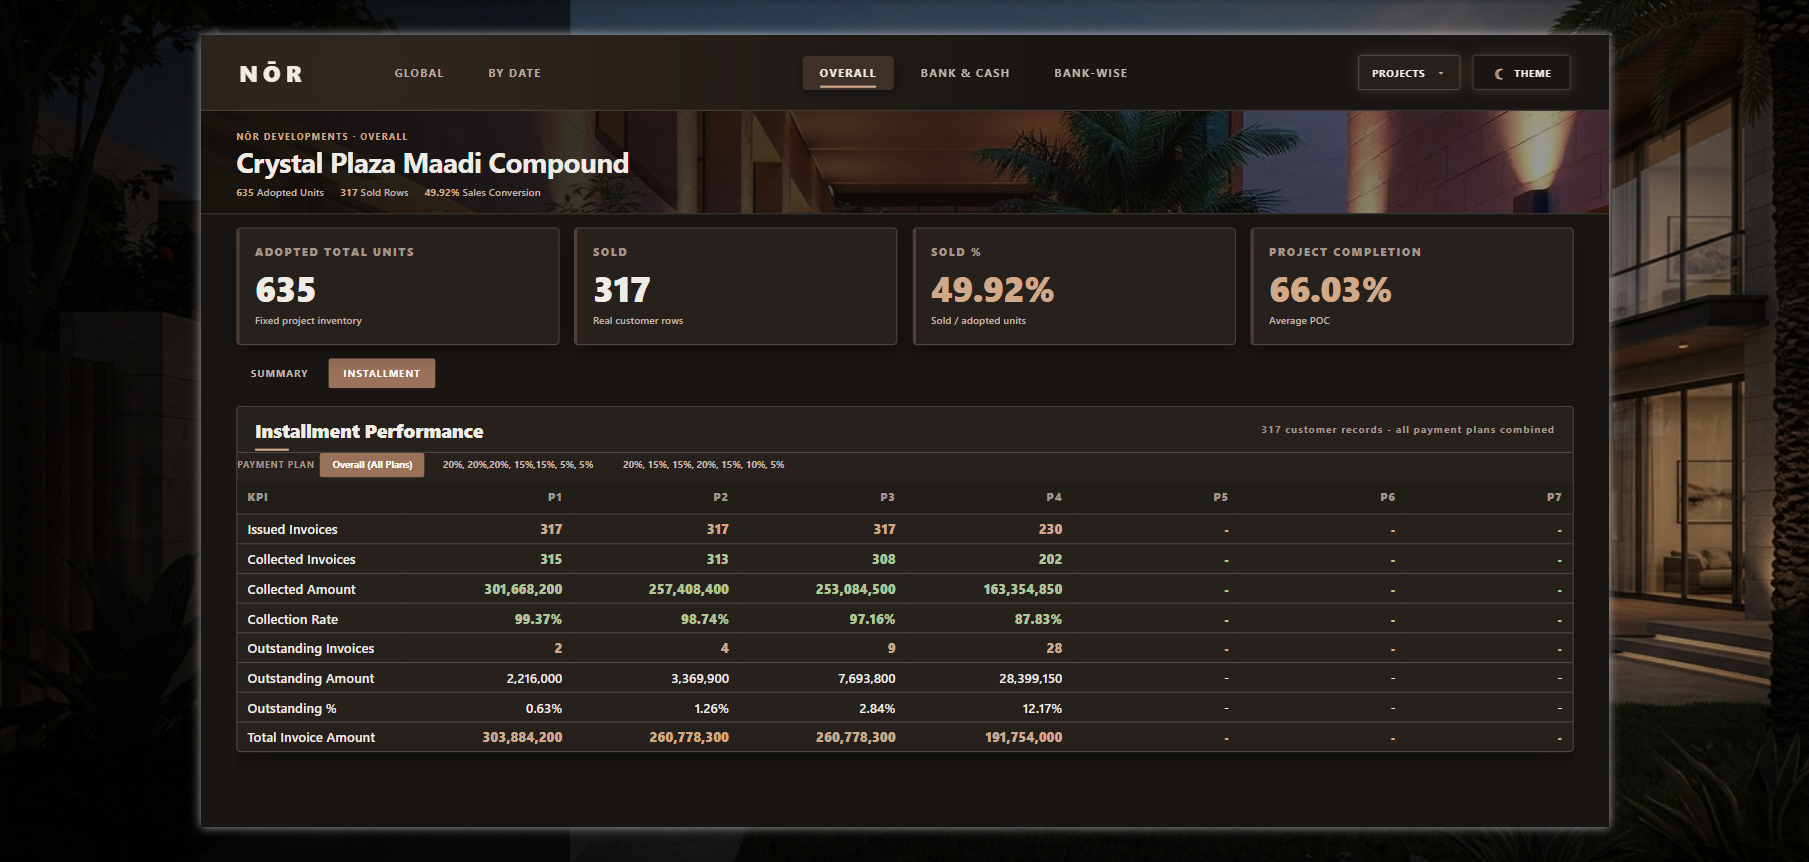

The page's visual inventory and layout, read from the dashboard file:
{"tool":"powerbi","page":{"name":"Crystal Plaza Maadi","canvas":[1280,720],"ordinal":3},"visuals":[{"type":"htmlContent443BE3AD55E043BF878BED274D3A6855","fields":{"content":["HTML Visuals.HTML_CrystalPlaza_OnePage"]},"box":[0,0,1280,720],"z":0}]}

Visuals, with their boxes on the page's 1280x720 design canvas (x1, y1, x2, y2). These are canvas units, not pixel positions in the 1809x862 screenshot, which may show the page scaled, cropped or inside an application window:
htmlContent443BE3AD55E043BF878BED274D3A6855 - HTML Visuals.HTML_CrystalPlaza_OnePage: region(0, 0, 1280, 720)
